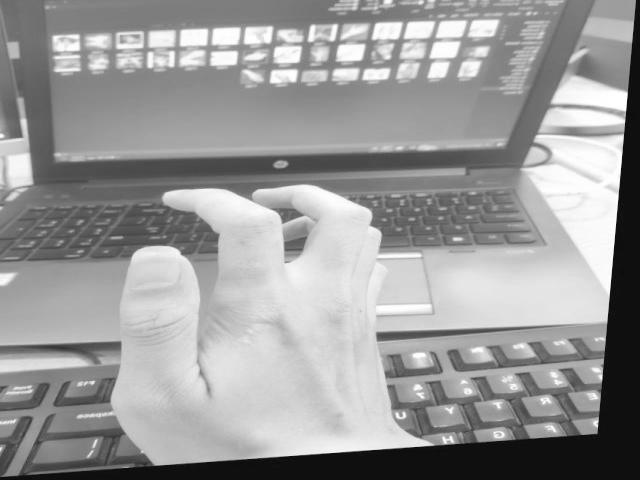not-gloved: (112, 182, 398, 456)
